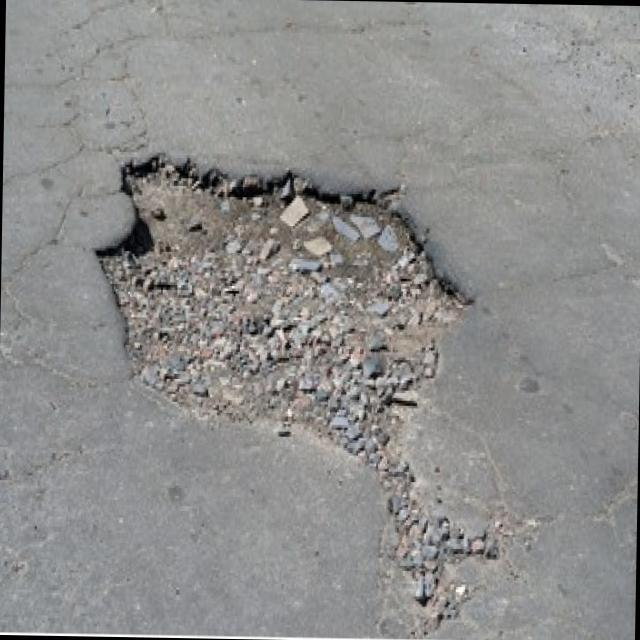Pothole: (92, 148, 480, 480)
